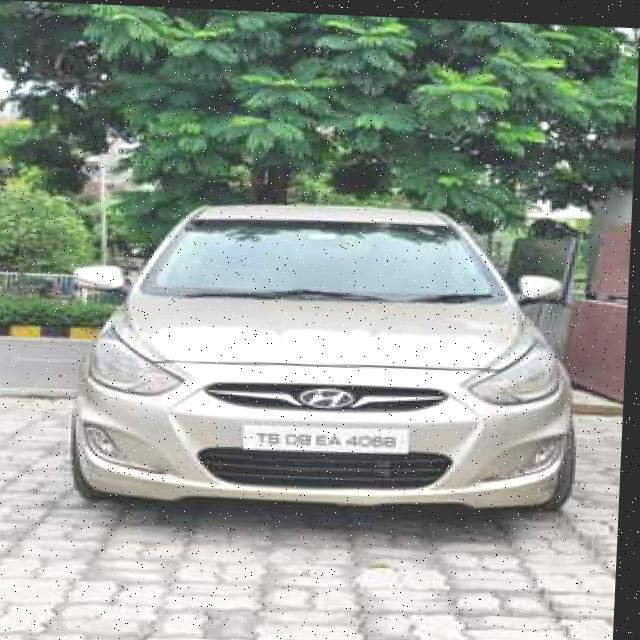plate: (247, 419, 411, 451)
